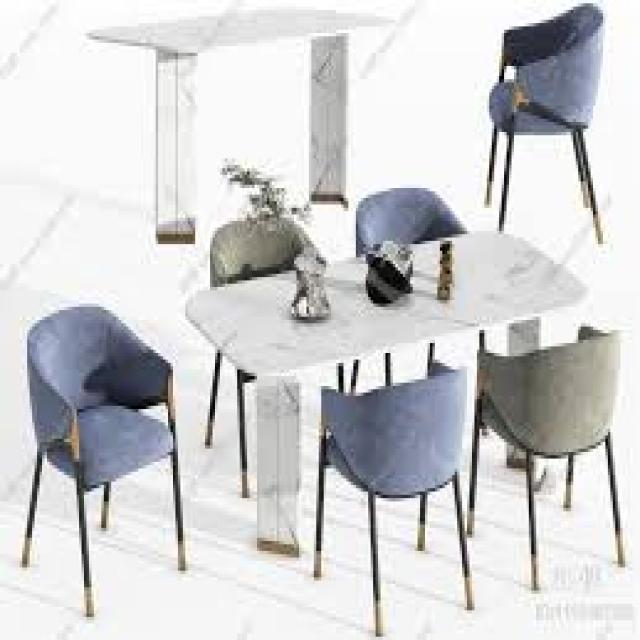table: (172, 205, 630, 604), (87, 18, 616, 189)
